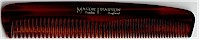grozi_17: (0, 0, 194, 38)
